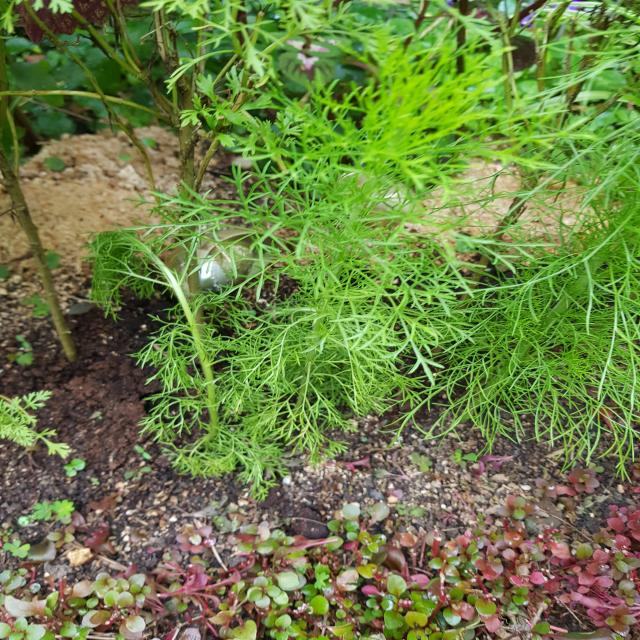Dill: (262, 99, 640, 464)
